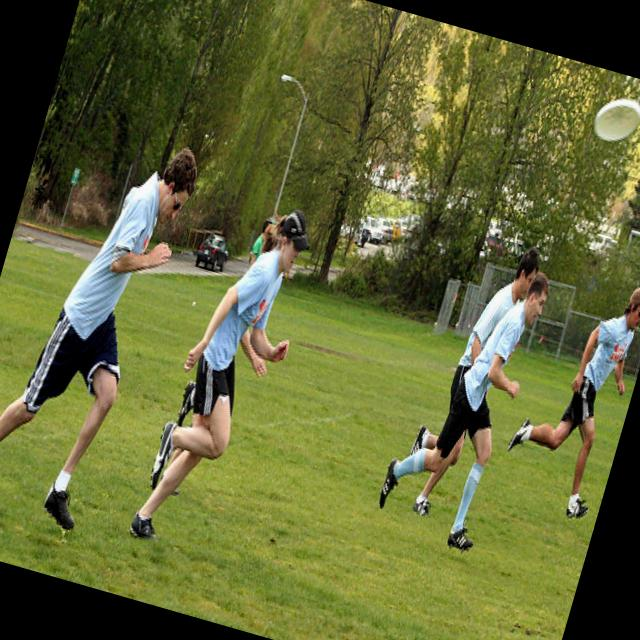Vehicle: (193, 231, 232, 273), (357, 211, 391, 244), (584, 232, 614, 262), (386, 218, 406, 243), (374, 218, 396, 240), (403, 218, 419, 244)
